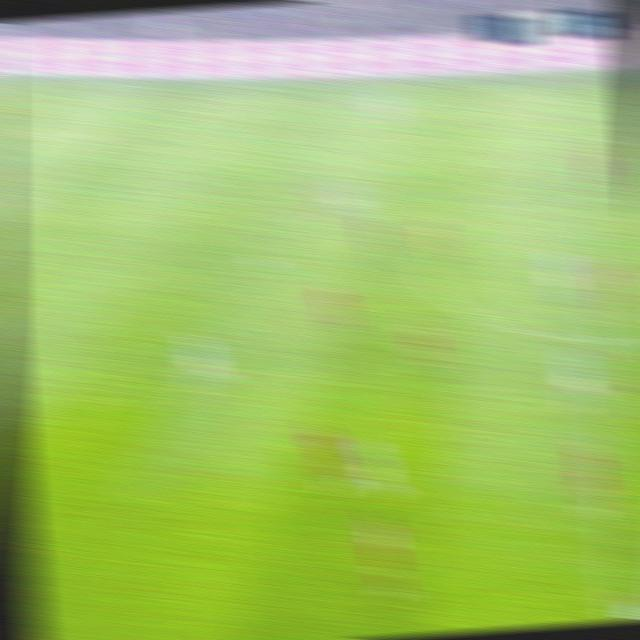bigarea_top_inner: (87, 127, 116, 145)
halfcircle_bottom: (578, 322, 617, 359)
halfcircle_top: (570, 183, 607, 207)
midline_top_intersection: (567, 73, 598, 94)
top_arc_area_intersection: (20, 186, 49, 205)
